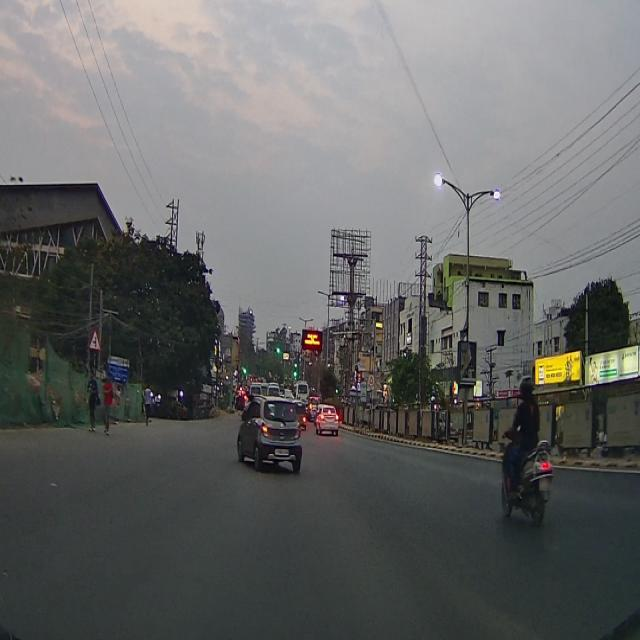side-road-left: (86, 322, 105, 356)
